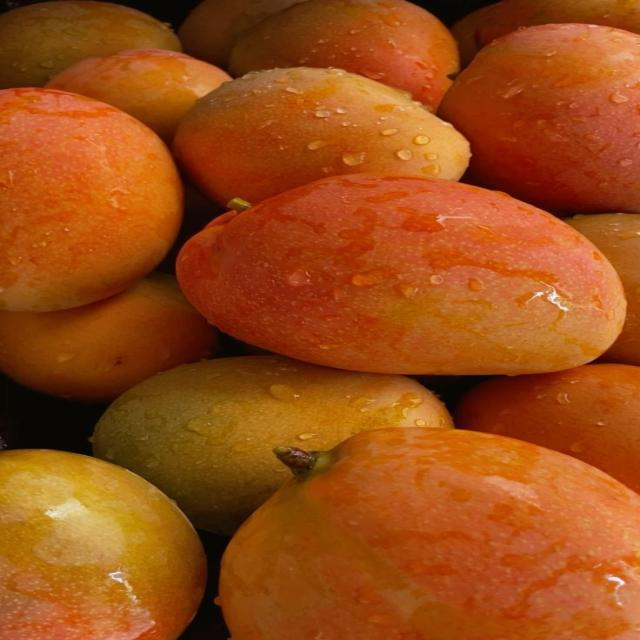mango: (177, 174, 625, 375), (218, 427, 639, 640), (93, 355, 453, 534), (174, 67, 470, 206), (0, 88, 183, 311), (0, 449, 206, 640), (439, 23, 639, 214), (0, 272, 217, 401), (230, 0, 458, 111), (454, 364, 639, 493), (45, 49, 230, 145), (0, 0, 181, 89)
